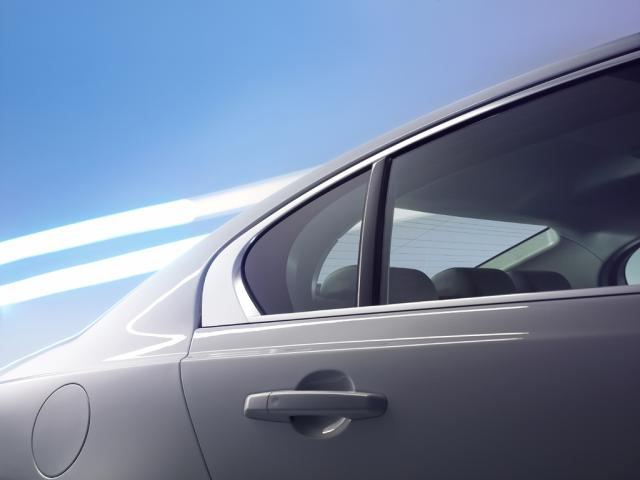Door-handle: (243, 390, 386, 416)
